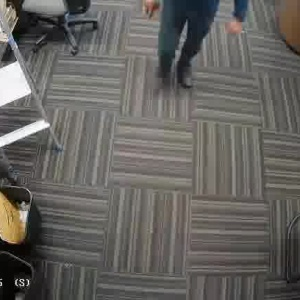person: (148, 0, 225, 92)
